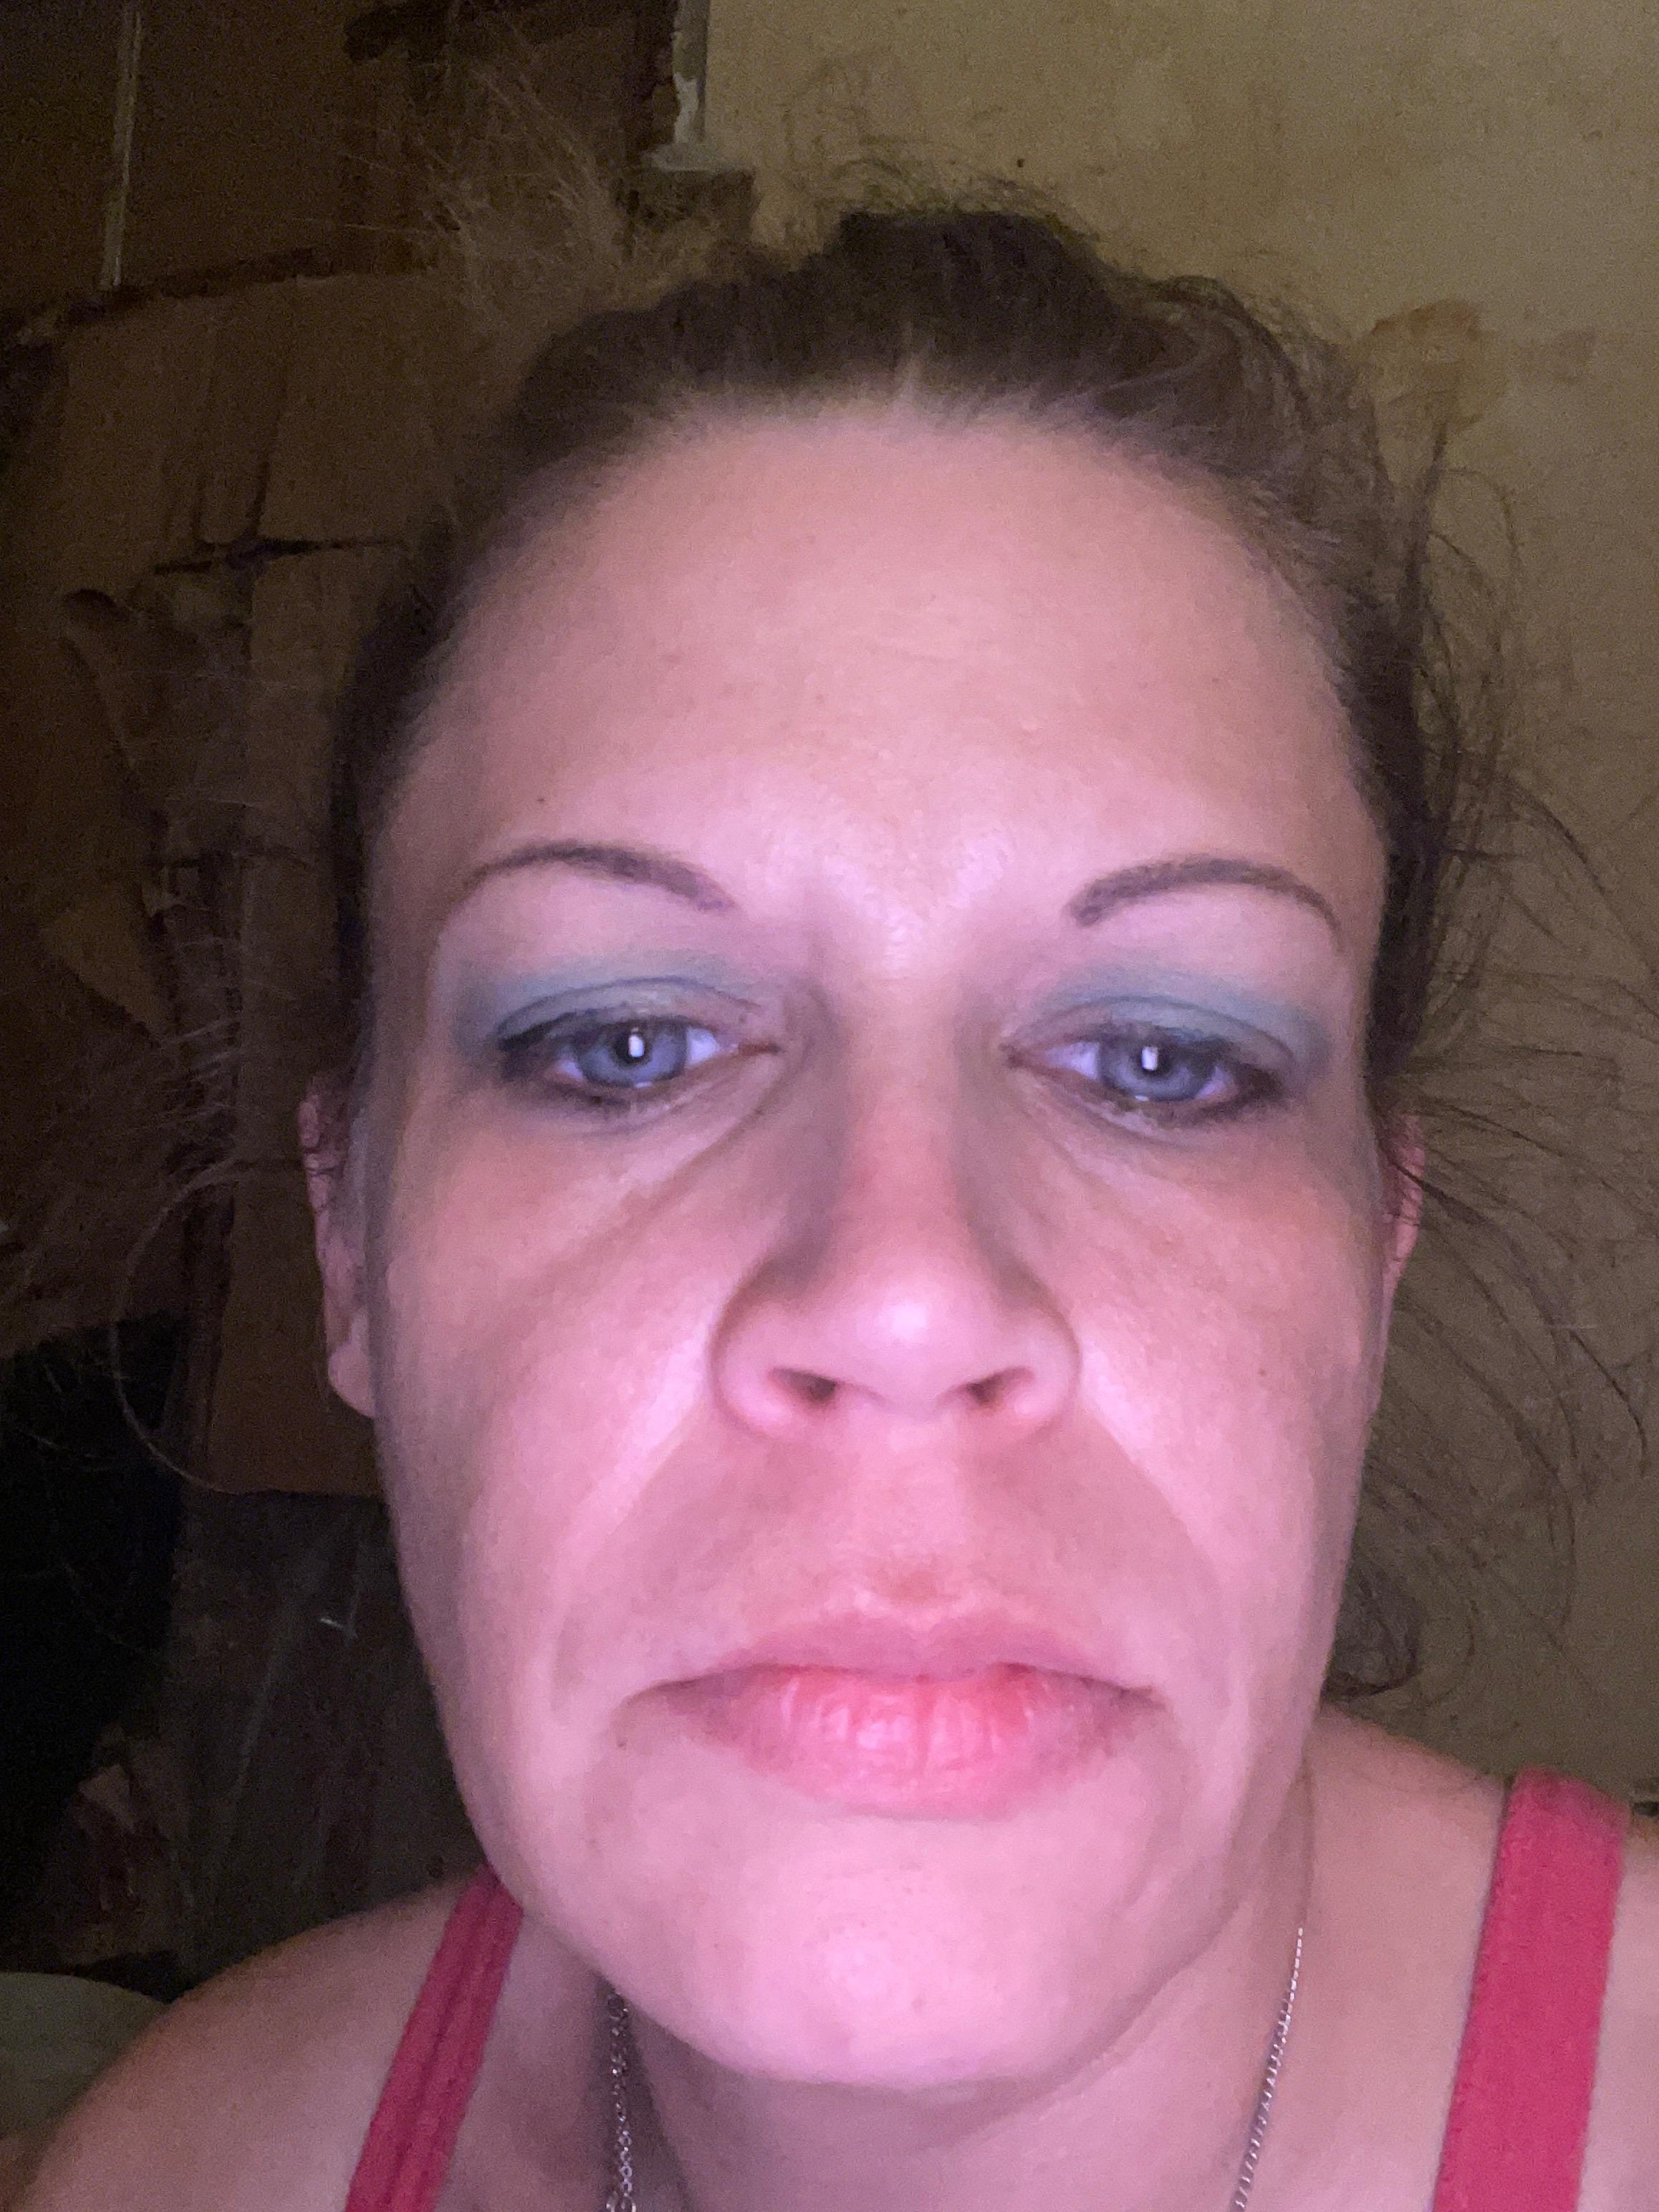Acne: (798, 1998, 885, 2055), (369, 1247, 399, 1310)
Eyebags: (1019, 1062, 1283, 1190), (477, 1071, 812, 1158)
Wrinkles: (511, 1414, 702, 1689), (1107, 1660, 1249, 1937), (1093, 1399, 1216, 1597), (843, 637, 988, 665)
